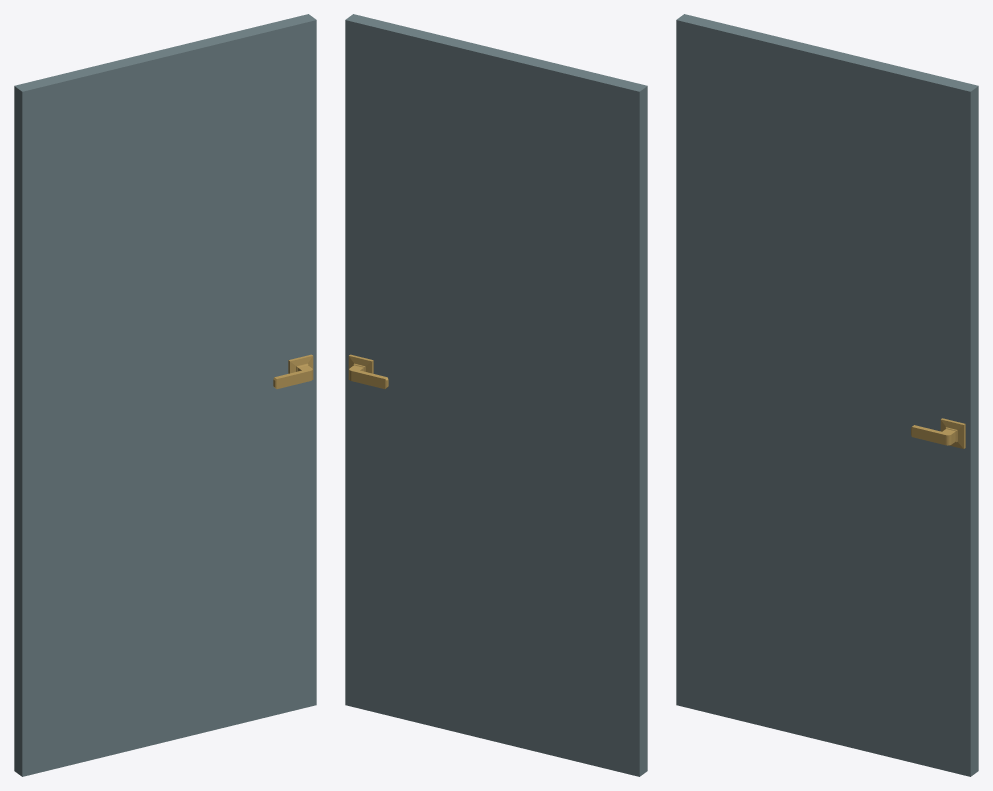
Rendered from door.glb.
3 views of the same model, side by side, from view 1: azimuth 30°, elevation 25°; view 2: azimuth 150°, elevation 25°; view 3: azimuth 330°, elevation 25° (orthographic).
Parts seen in each view (by area): view 1: Door, Door Handle 001; view 2: Door, Door Handle.002; view 3: Door, Door Handle 001.
Part boxes in pixels (left/top/right/bottom): Door: left=14, top=14, right=316, bottom=776; Door Handle 001: left=273, top=354, right=313, bottom=388; Door: left=345, top=14, right=647, bottom=776; Door Handle.002: left=348, top=354, right=388, bottom=388; Door: left=676, top=14, right=978, bottom=776; Door Handle 001: left=911, top=418, right=965, bottom=448.
Size of the model in its own units: 0.9144 by 2.03 by 0.145.
